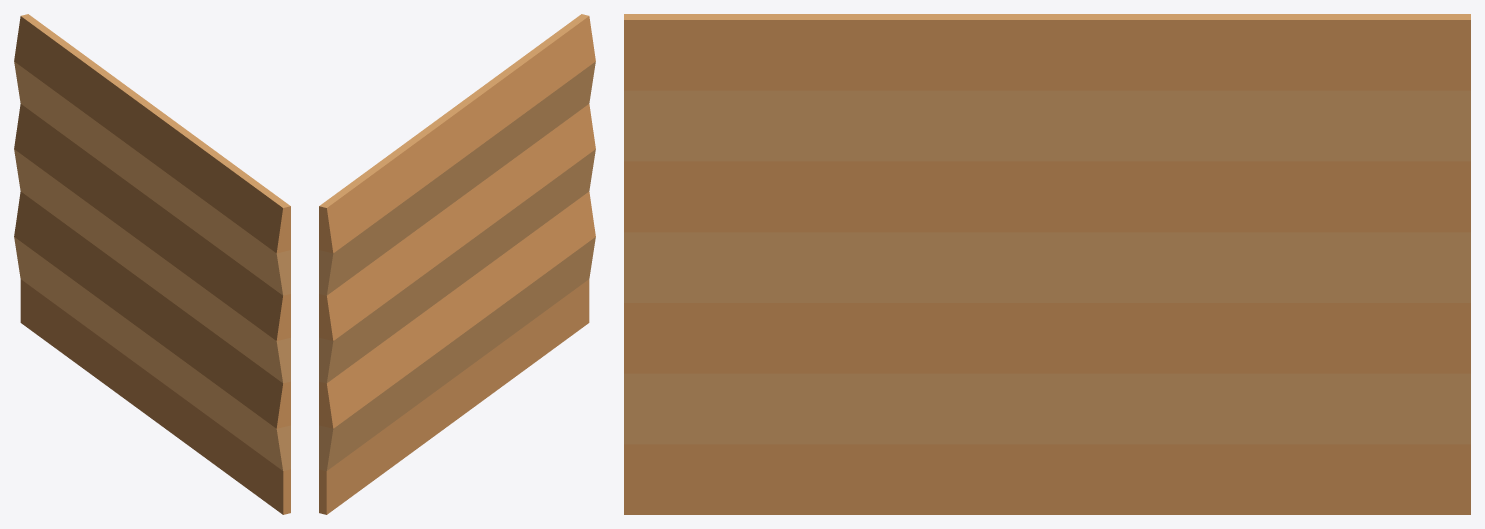
The model's file is Wood.fbx.
The picture shows the model from 3 angles, left to right: view 1: azimuth 30°, elevation 25°; view 2: azimuth 150°, elevation 25°; view 3: azimuth 270°, elevation 25°; orthographic projection. The views are drawn at different scales.
Parts seen in each view (by area): view 1: Cube.001; view 2: Cube.001; view 3: Cube.001.
Boxes of the visible parts, box(x1,y1,x2,y2) form: Cube.001: box(14, 14, 290, 514); Cube.001: box(319, 14, 595, 514); Cube.001: box(624, 14, 1470, 514).
Bounding box in the file's own units: 10.37 × 213 × 331.
